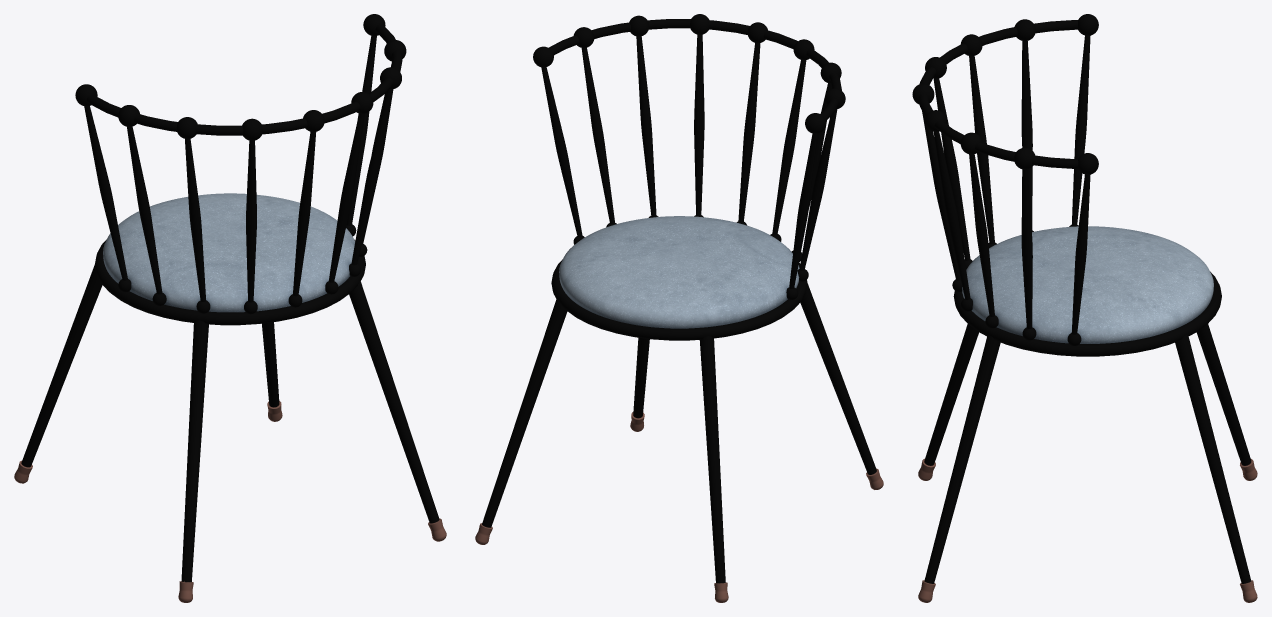
File: chair_16_03.001.fbx
The picture shows the model from 3 angles, left to right: view 1: azimuth 30°, elevation 25°; view 2: azimuth 150°, elevation 25°; view 3: azimuth 270°, elevation 25°; orthographic projection. The views are drawn at different scales.
Parts seen in each view (by area): view 1: chair_16_03.001; view 2: chair_16_03.001; view 3: chair_16_03.001.
Boxes of the visible parts, box(x1,y1,x2,y2) form: chair_16_03.001: box(14, 14, 446, 602); chair_16_03.001: box(475, 14, 883, 602); chair_16_03.001: box(912, 14, 1257, 602).
Bounding box in the file's own units: 55.25 × 79.35 × 54.34.
Materials: 1 (1 with a texture image).
